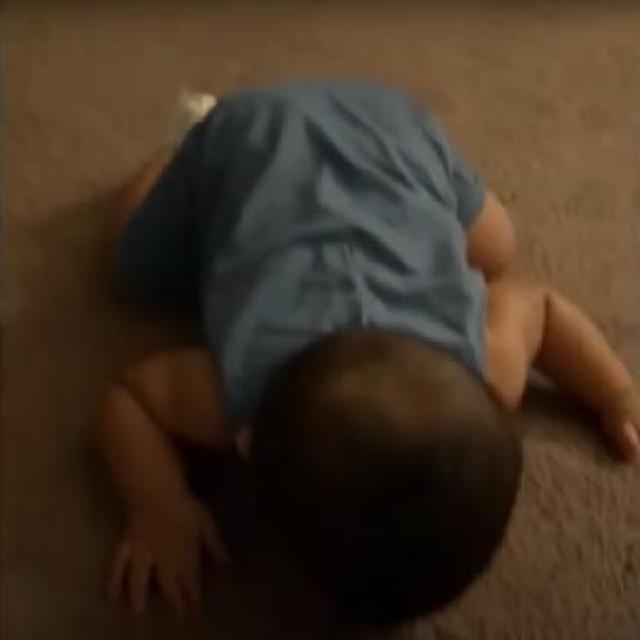baby: (84, 75, 638, 631)
